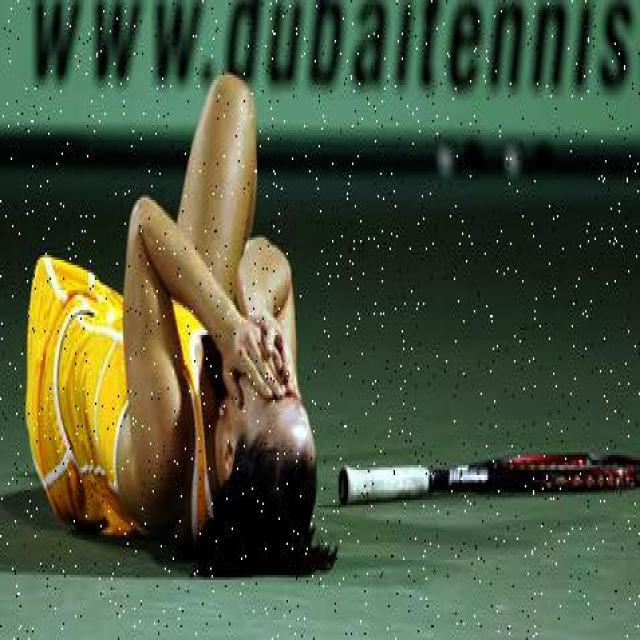fall: (32, 75, 308, 563)
